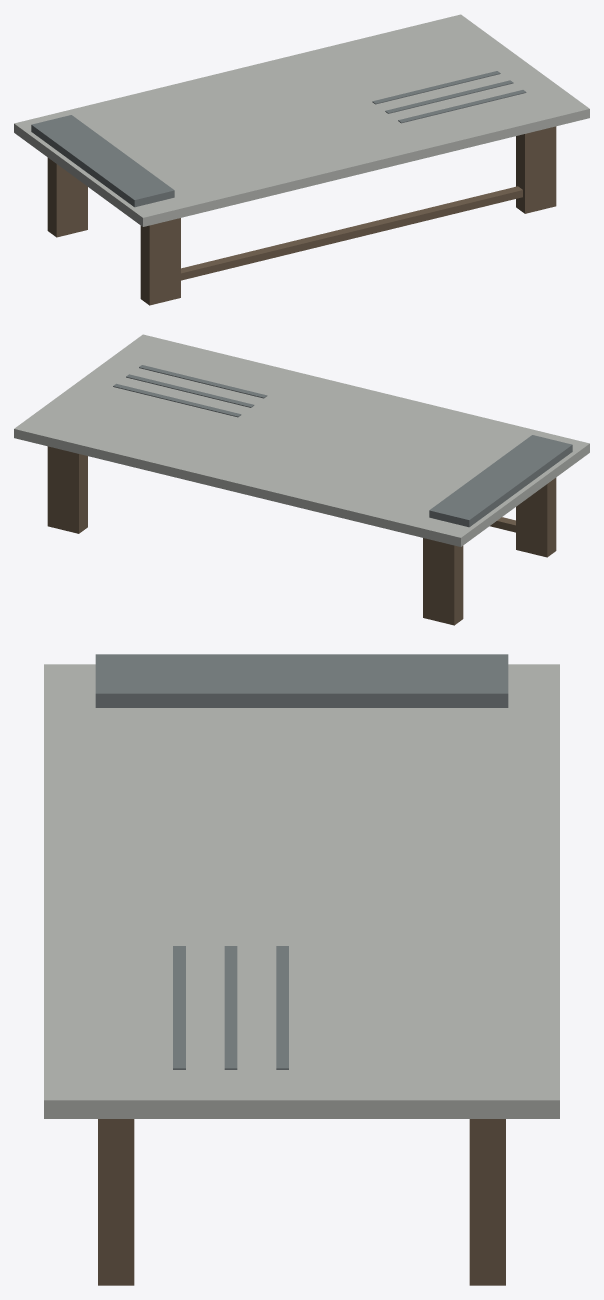
Rendered from cleaning_table.glb.
3 views of the same model, one above another, from view 1: azimuth 30°, elevation 25°; view 2: azimuth 150°, elevation 25°; view 3: azimuth 270°, elevation 25° (orthographic). The views are drawn at different scales.
Parts seen in each view (by area): view 1: cleaning_table; view 2: cleaning_table; view 3: cleaning_table.
Boxes of the visible parts, x1,y1,x2,y2 form: cleaning_table: [14, 14, 589, 305]; cleaning_table: [14, 334, 589, 625]; cleaning_table: [44, 654, 559, 1285].
Bounding box in the file's own units: 3.84 × 0.9 × 1.92.
